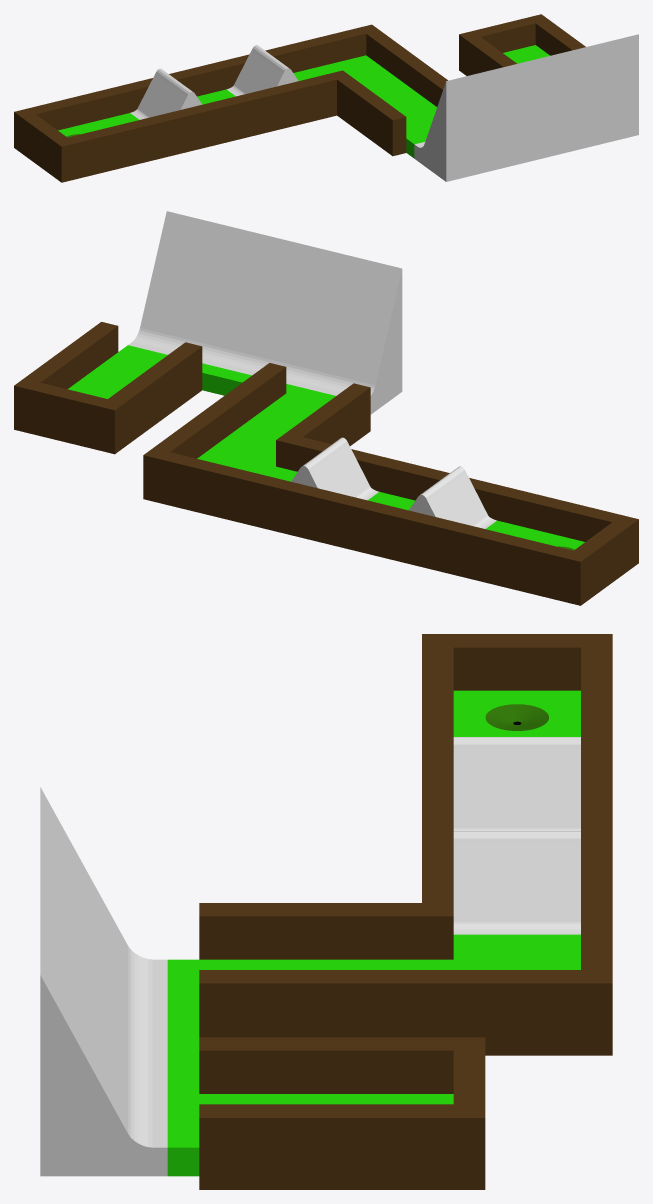
The model's file is Hole2.fbx.
The picture shows the model from 3 angles, top to bottom: view 1: azimuth 30°, elevation 25°; view 2: azimuth 150°, elevation 25°; view 3: azimuth 270°, elevation 25°; orthographic projection. The views are drawn at different scales.
Visible parts, largest first — view 1: Hole2Walls, LargeRamp, Hole2Base, Ramp.002, Ramp.001; view 2: Hole2Walls, LargeRamp, Hole2Base, Ramp.001, Ramp.002; view 3: Hole2Walls, LargeRamp, Hole2Base, Ramp.001, Ramp.002.
Part boxes in pixels (x1,y1,x2,y2): Hole2Walls: (14,14,585,182); LargeRamp: (414,34,638,181); Hole2Base: (58,45,549,158); Ramp.002: (130,68,201,119); Ramp.001: (227,45,298,96); Hole2Walls: (14,322,638,605); LargeRamp: (128,211,402,414); Hole2Base: (68,345,584,550); Ramp.001: (291,437,378,500); Ramp.002: (409,466,496,528); Hole2Walls: (199,634,612,1189); LargeRamp: (40,787,167,1176); Hole2Base: (167,690,580,1176); Ramp.001: (453,831,580,934); Ramp.002: (453,737,580,830).
Size of the model in its own units: 3600 by 700 by 1800.
